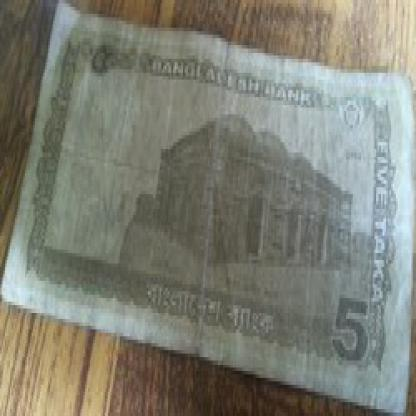Five Taka: (330, 284, 376, 374), (80, 31, 116, 87)
